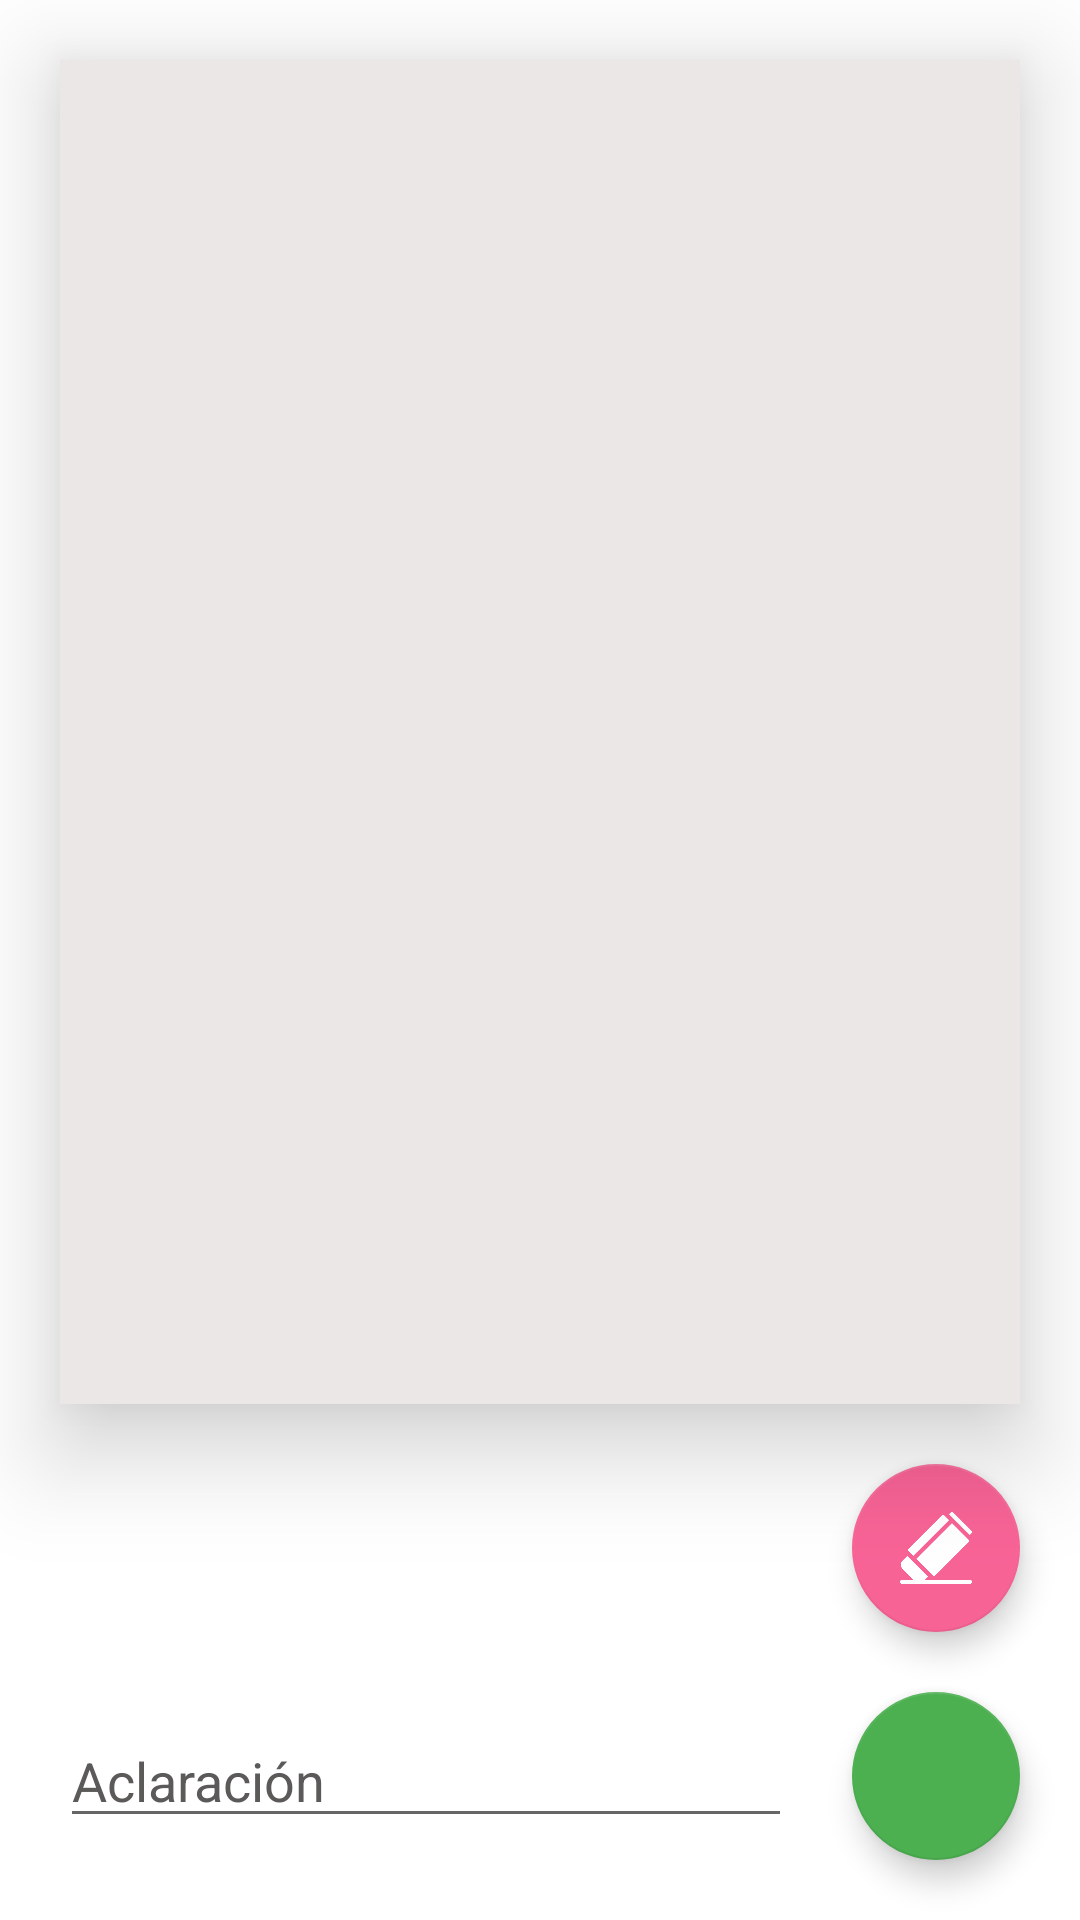

Point at icon controls on the screen. Image size 1080 × 1920, points as (x,y).
gomadeborrar: (936,1548)
